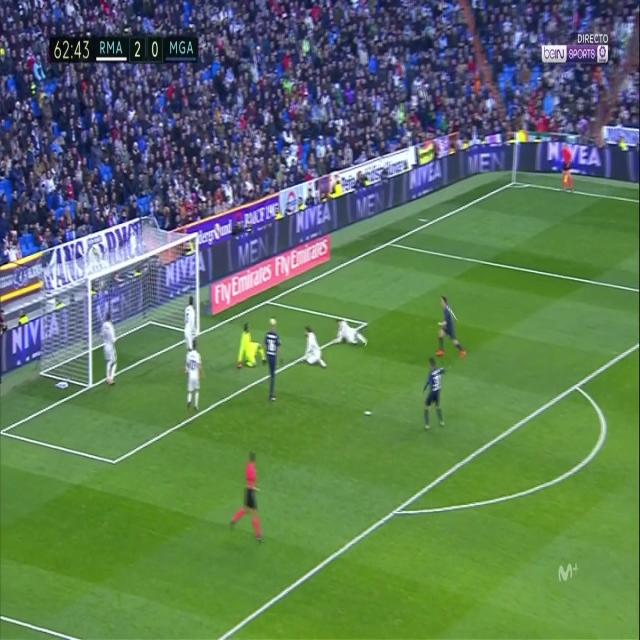Goalkeeper: (235, 324, 267, 373)
Player: (434, 294, 468, 363), (420, 356, 448, 432), (97, 310, 119, 390), (182, 339, 204, 417), (265, 317, 282, 404), (330, 317, 370, 350), (300, 324, 327, 369), (182, 294, 197, 354)
Referee: (229, 450, 266, 542), (559, 145, 576, 198)
